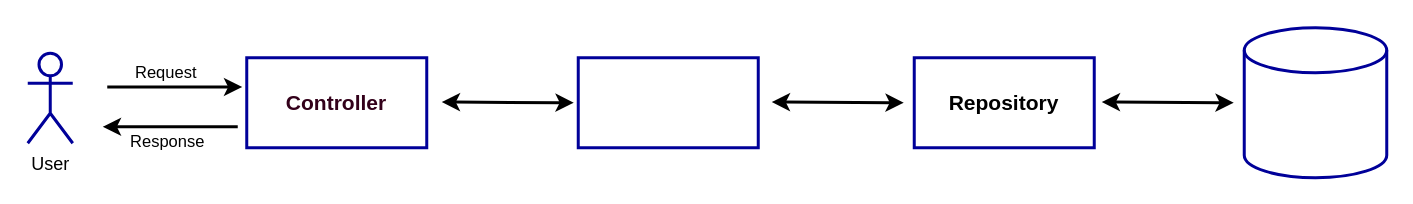
The diagram is 1413 pixels wide and 204 high, and some of its shapes have lost their labels. Each missing label, with the box of its shape:
PostgreSQL: (1242, 26, 1388, 178)
Service: (576, 56, 759, 148)
